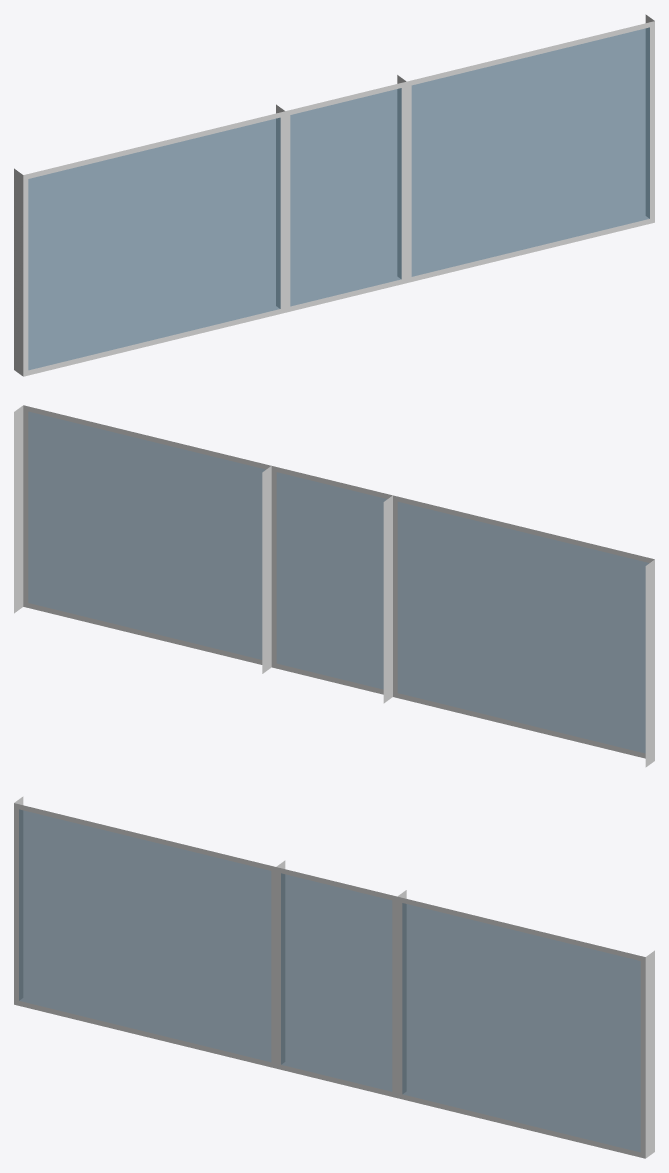
The model's file is p3-entrance-enter-glas.fbx.
The picture shows the model from 3 angles, top to bottom: view 1: azimuth 30°, elevation 25°; view 2: azimuth 150°, elevation 25°; view 3: azimuth 330°, elevation 25°; orthographic projection.
Visible parts, largest first — view 1: p3-entrance-enter-glas; view 2: p3-entrance-enter-glas; view 3: p3-entrance-enter-glas.
Part boxes in pixels (box(x1,y1,x2,y2)): p3-entrance-enter-glas: box(14, 14, 654, 376); p3-entrance-enter-glas: box(14, 405, 654, 767); p3-entrance-enter-glas: box(14, 796, 654, 1158).
Bounding box in the file's own units: 390 × 119 × 10.
